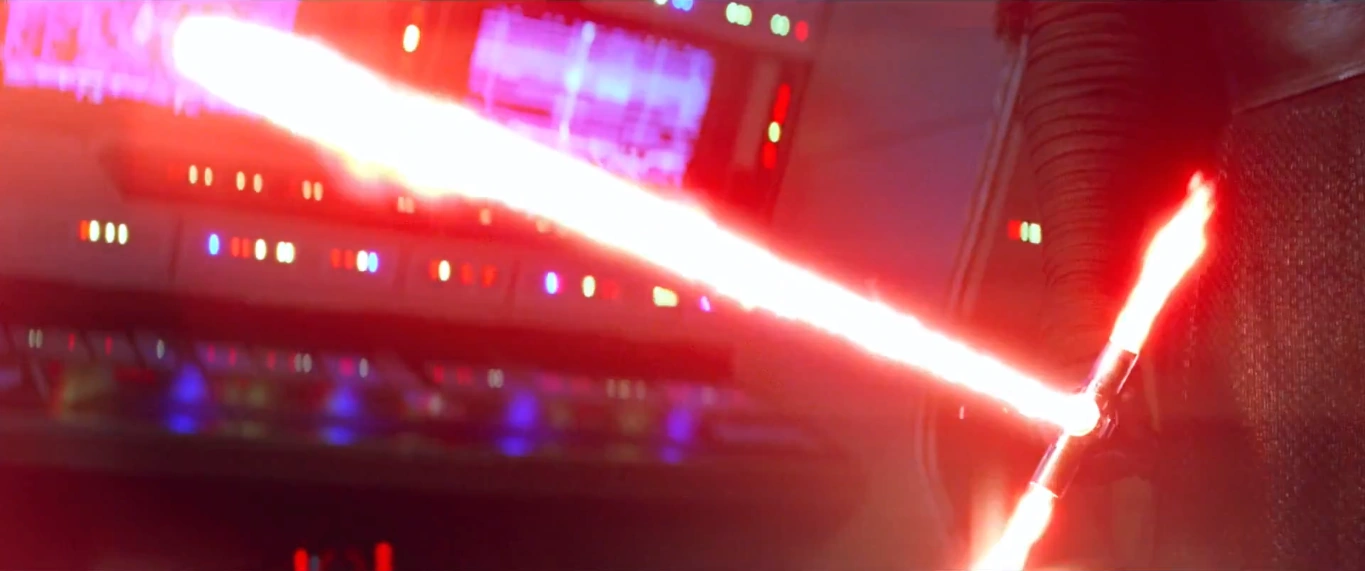cats: (166, 8, 1225, 571)
